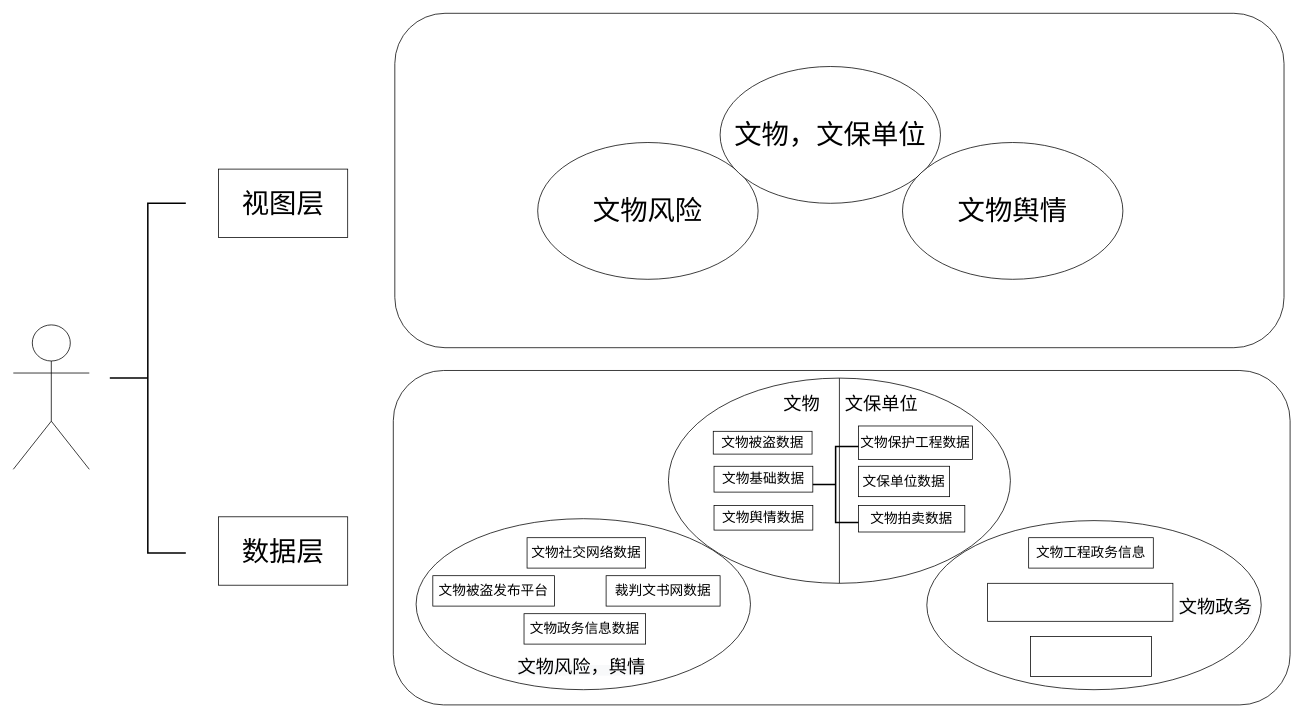
Image size: 1303x718. Some labels were removed from this diagram. Each missing label, with the box of its shape:
全国重点文物保护单位名录: (987, 583, 1173, 621)
文物拍卖指定企业: (1030, 636, 1151, 676)
用户: (13, 324, 89, 469)
